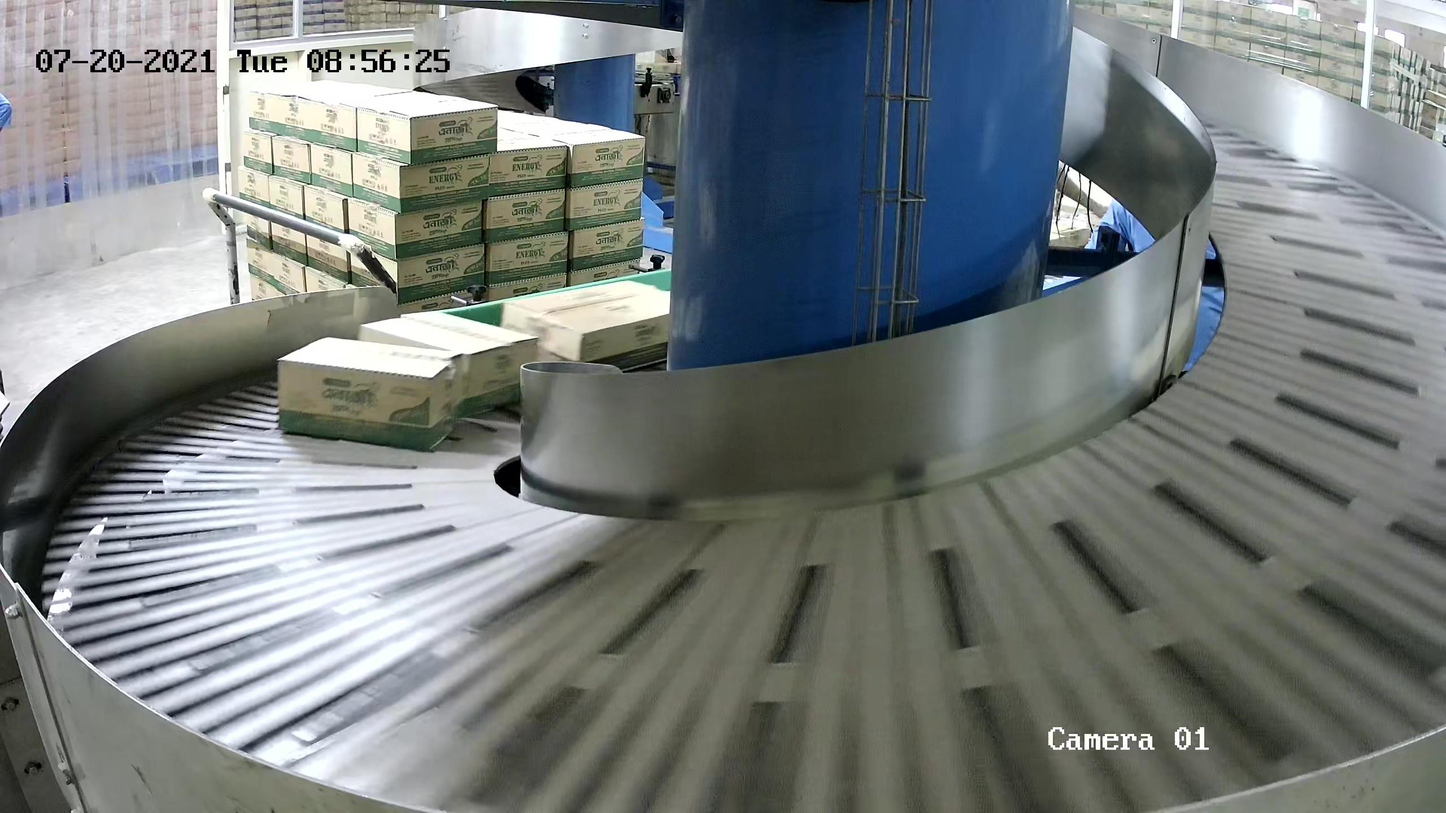Box: (277, 337, 463, 452), (357, 310, 539, 417), (501, 280, 690, 381)
